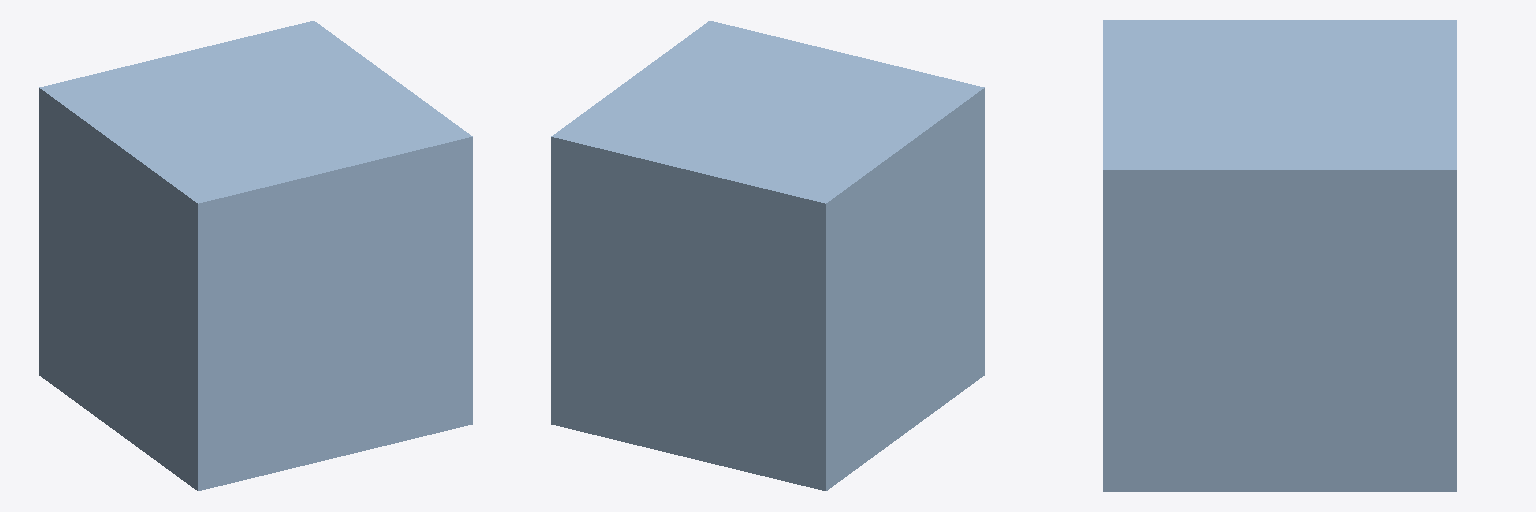
URDF robot description (box02289.urdf):
<?xml version="1.0"?>
<robot name="box02289.urdf">

  <link name="baseLink">

    <inertial>
      <mass value="0.1"/>
      <origin xyz="0 0 0"/>
      <inertia
        ixx="0.0011644496" ixy="0" ixz="0"
        iyy="0.0011644496" iyz="0"
        izz="0.0011644496"/>
    </inertial>

    <visual>
      <origin rpy="0 0 0" xyz="0 0 0"/>
      <geometry>
        <mesh filename="objects_box02289.obj" scale="1 1 1"/>
      </geometry>
      <material name="mat">
        <color rgba="0.7 0.8 0.9 1"/>
      </material>
    </visual>

    <collision>
      <origin rpy="0 0 0" xyz="0 0 0"/>
      <geometry>
        <mesh filename="objects_box02289.obj" scale="1 1 1"/>
      </geometry>
    </collision>

  </link>

</robot>

--- What the picture shows (computed from the rendered views, not written in the file) ---
The picture shows the robot from 3 angles, left to right: view 1: azimuth 30°, elevation 25°; view 2: azimuth 150°, elevation 25°; view 3: azimuth 270°, elevation 25°; orthographic projection.
Model box02289.urdf with 1 links and 0 joints (none), rooted at baseLink, posed every joint at zero.
Links seen in each view (by area): view 1: baseLink; view 2: baseLink; view 3: baseLink.
Boxes of the visible links, x1,y1,x2,y2 form: baseLink: (39,21,472,490); baseLink: (551,21,984,490); baseLink: (1103,20,1456,491).
Bounding box of the posed robot: 0.2289 × 0.2289 × 0.2289 m (x, y, z).
Meshes: 1 distinct files referenced, 1 mesh visuals loaded (1 OBJ).
